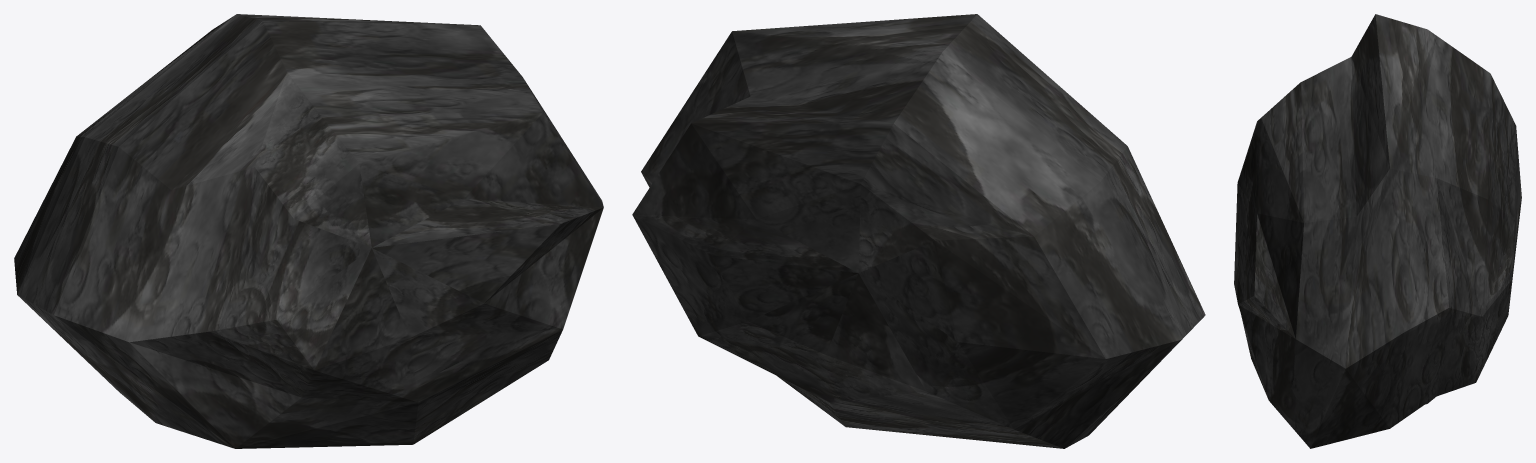
Rendered from asteroid02_wtf.obj.
3 views of the same model, side by side, from view 1: azimuth 30°, elevation 25°; view 2: azimuth 150°, elevation 25°; view 3: azimuth 270°, elevation 25° (orthographic). The views are drawn at different scales.
Visible parts, largest first — view 1: group2; view 2: group2; view 3: group2.
Boxes of the visible parts, x1,y1,x2,y2 form: group2: [14, 14, 603, 448]; group2: [632, 14, 1205, 448]; group2: [1234, 14, 1521, 448].
Size of the model in its own units: 660 by 479 by 345.
